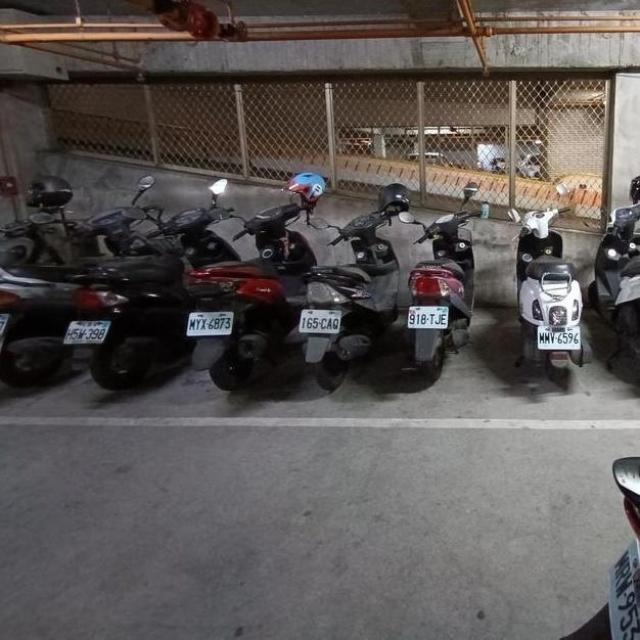W: (183, 303, 237, 342), (62, 310, 114, 350), (296, 304, 344, 337), (534, 322, 582, 352), (405, 301, 451, 331)
